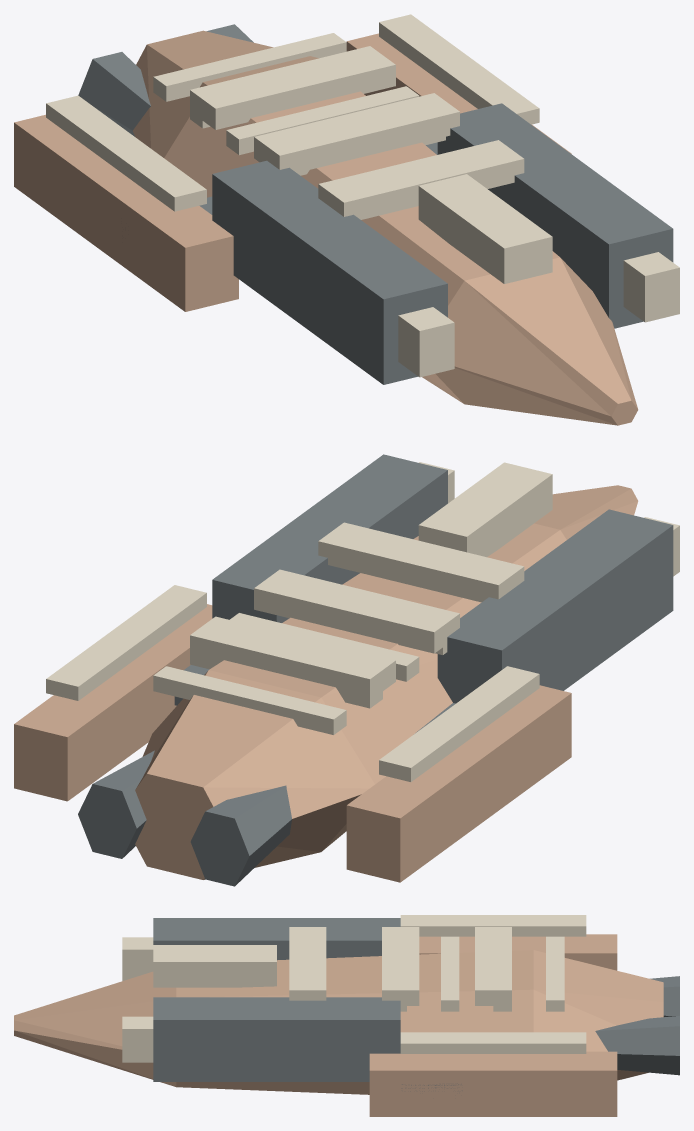
The picture shows the model from 3 angles, top to bottom: view 1: azimuth 30°, elevation 25°; view 2: azimuth 150°, elevation 25°; view 3: azimuth 270°, elevation 25°; orthographic projection. The views are drawn at different scales.
Bounding box in the file's own units: 2.33 × 1.02 × 4.82.
